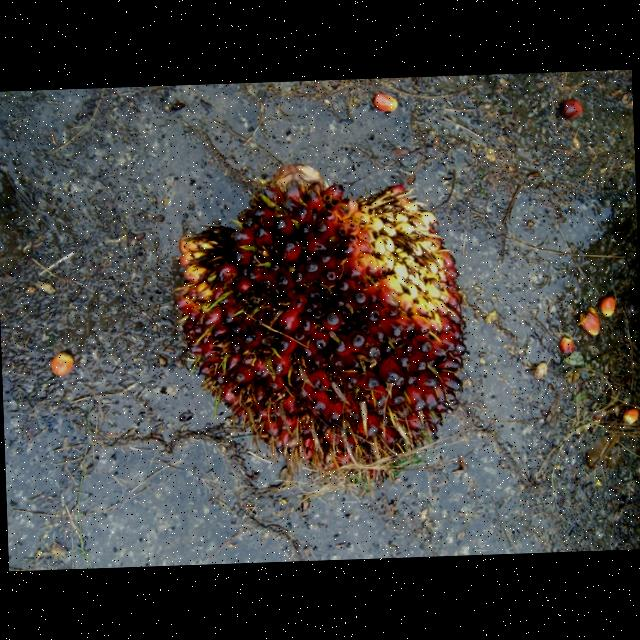Ripe: (167, 173, 476, 486)
